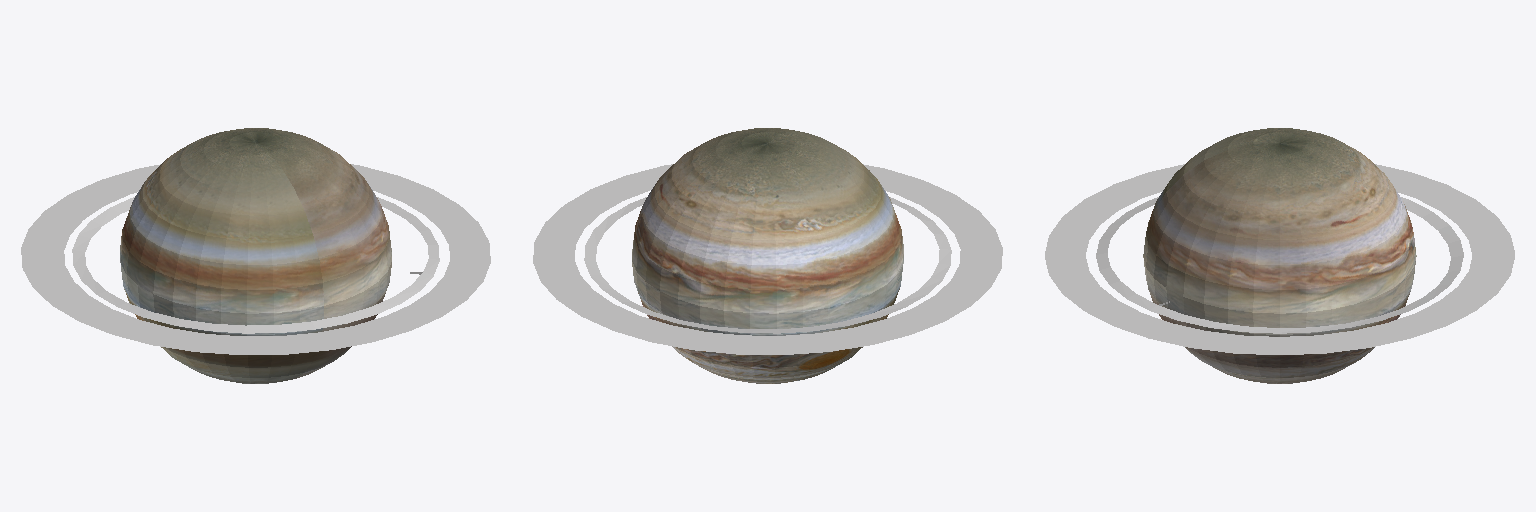
3 renders of one model, left to right at view 1: azimuth 30°, elevation 25°; view 2: azimuth 150°, elevation 25°; view 3: azimuth 270°, elevation 25°, orthographic.
Visible parts, largest first — view 1: Sphere_Sphere.001, Circle, Circle.001; view 2: Sphere_Sphere.001, Circle, Circle.001; view 3: Sphere_Sphere.001, Circle, Circle.001.
Part boxes in pixels (left/top/right/bottom): Sphere_Sphere.001: left=120, top=128, right=391, bottom=383; Circle: left=21, top=164, right=490, bottom=354; Circle.001: left=72, top=197, right=439, bottom=333; Sphere_Sphere.001: left=632, top=128, right=903, bottom=383; Circle: left=533, top=164, right=1002, bottom=354; Circle.001: left=584, top=197, right=951, bottom=333; Sphere_Sphere.001: left=1143, top=128, right=1416, bottom=383; Circle: left=1045, top=164, right=1514, bottom=354; Circle.001: left=1096, top=197, right=1463, bottom=333.
Bounding box in the file's own units: 3.45 × 1.82 × 3.45.
Materials: 2 (2 with a texture image).